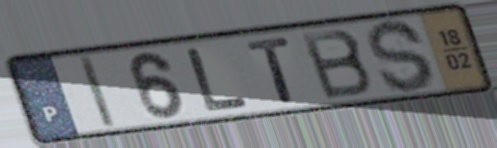6: (127, 49, 187, 121)
B: (297, 27, 377, 102)
I: (75, 53, 120, 131)
L: (182, 45, 254, 114)
S: (364, 17, 439, 95)
T: (243, 34, 299, 105)
